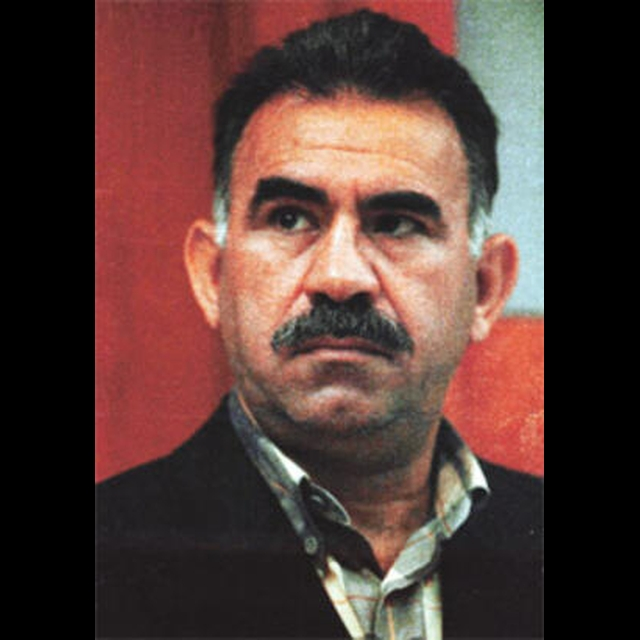APO: (164, 27, 523, 580)
